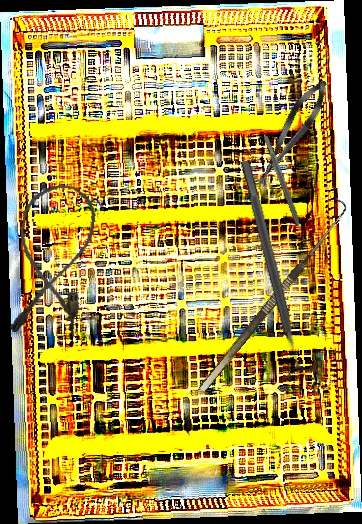Cannula: (5, 179, 100, 342)
Fixation Ring: (228, 156, 321, 383), (256, 132, 317, 249)
Hook Surgical: (188, 196, 353, 394)
Micro Scissor: (246, 74, 336, 193)
